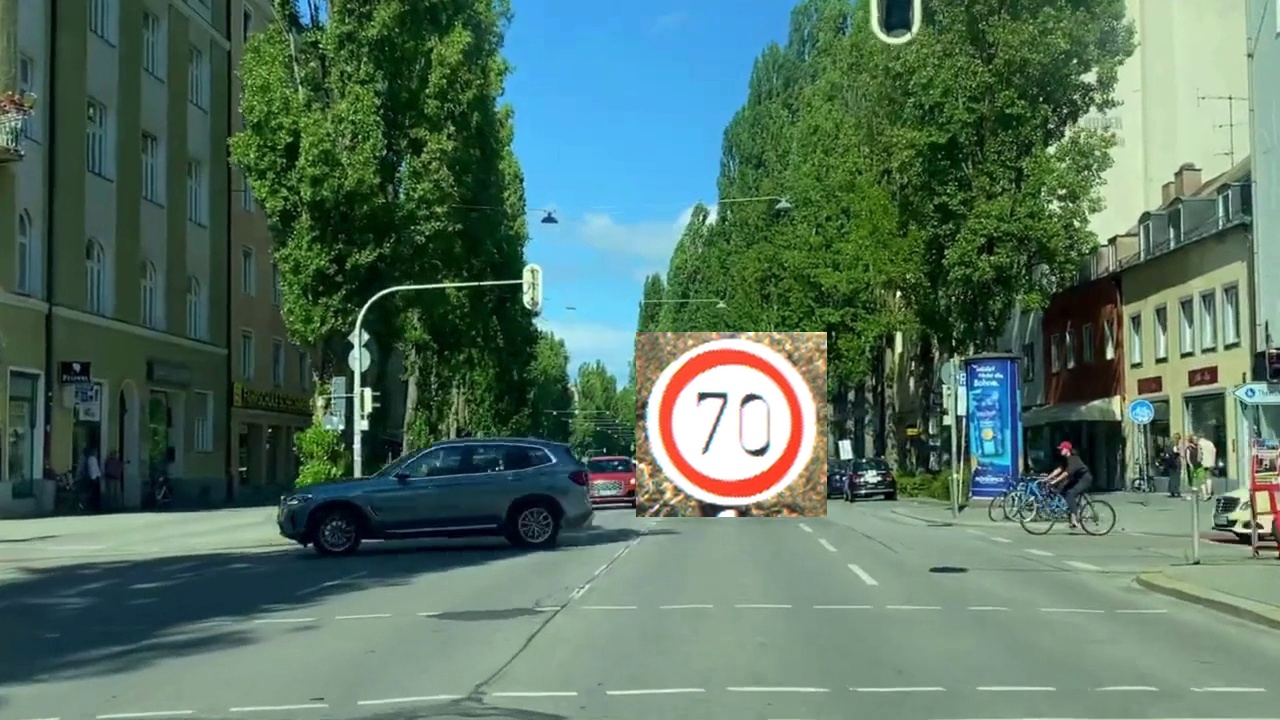Speed 70: (636, 332, 827, 517)
